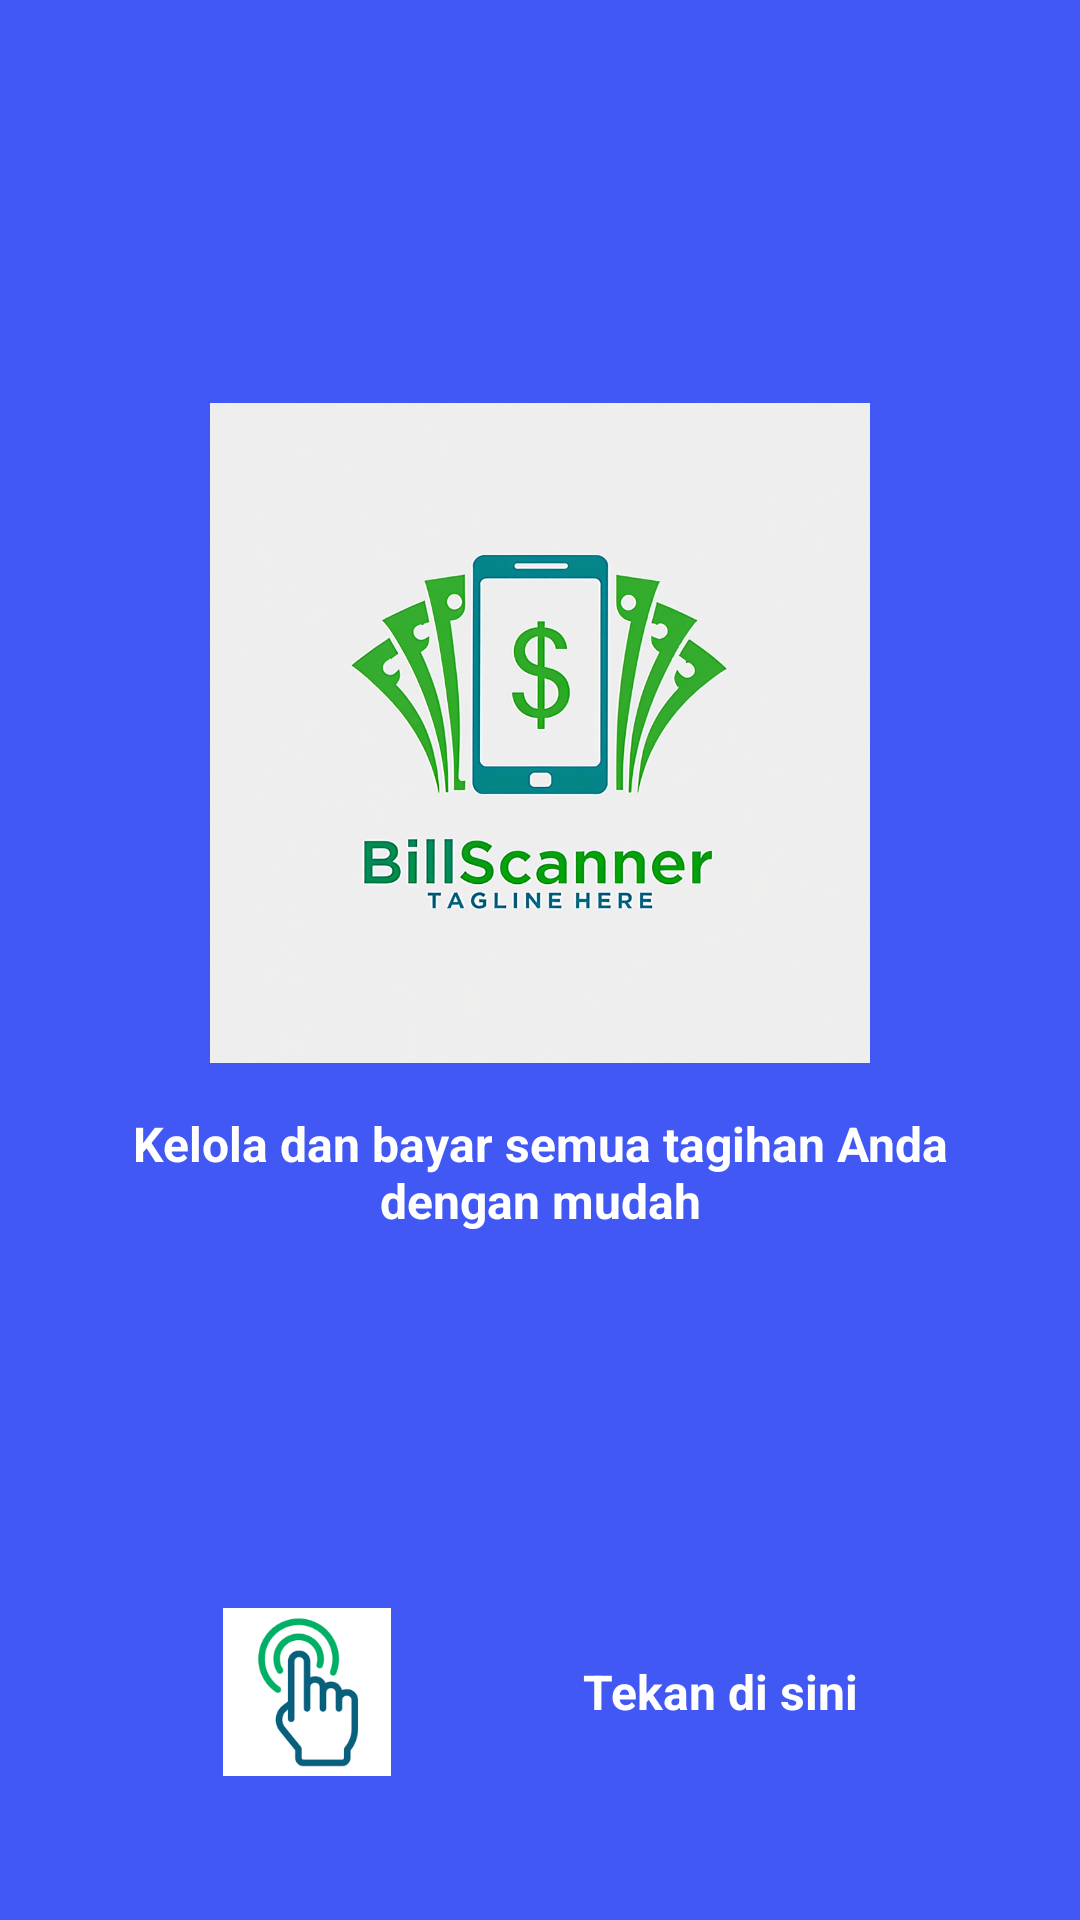

Screen size 1080×1920. Icon name, then its box in pixels as [x1,y1,x2,y2]:
onclick: [223,1608,391,1776]
